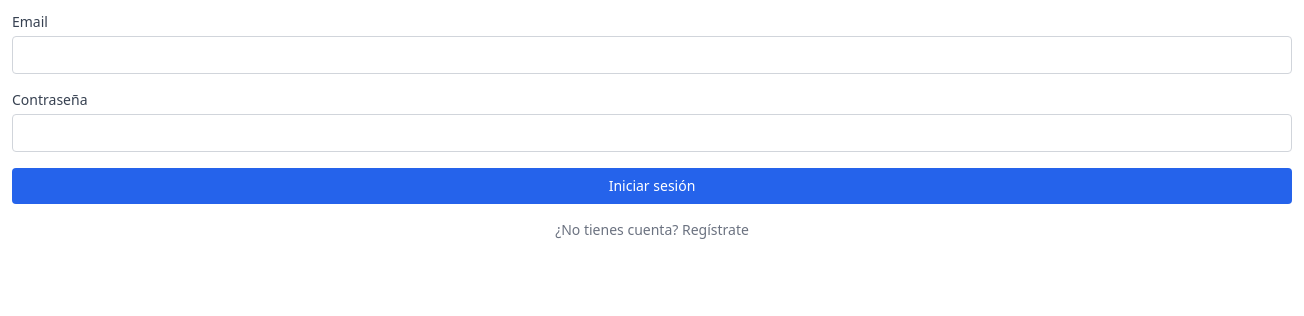
Test: LoginPage › shows error message on INVALID_CREDENTIALS
Type "test@example.com" into the field labelled "Email".
click(652, 55); type("test@example.com")  # box [12,36,1292,74]
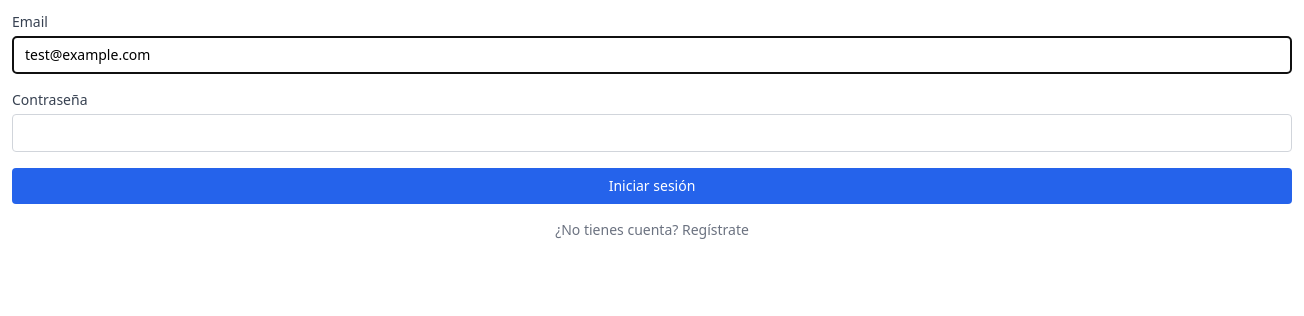
Type "wrongpass" into the password field labelled "Contraseña".
click(652, 133); type("wrongpass")  # box [12,114,1292,152]
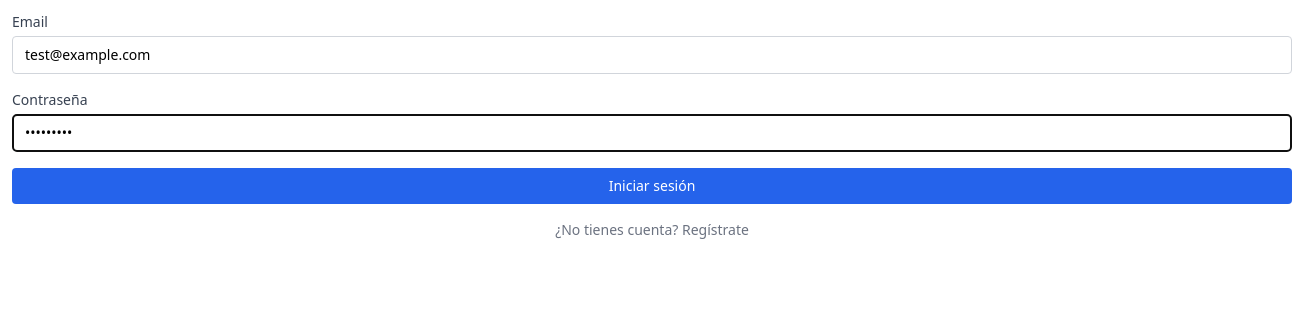
Click the button "Iniciar sesión".
click(652, 186)  # box [12,168,1292,204]
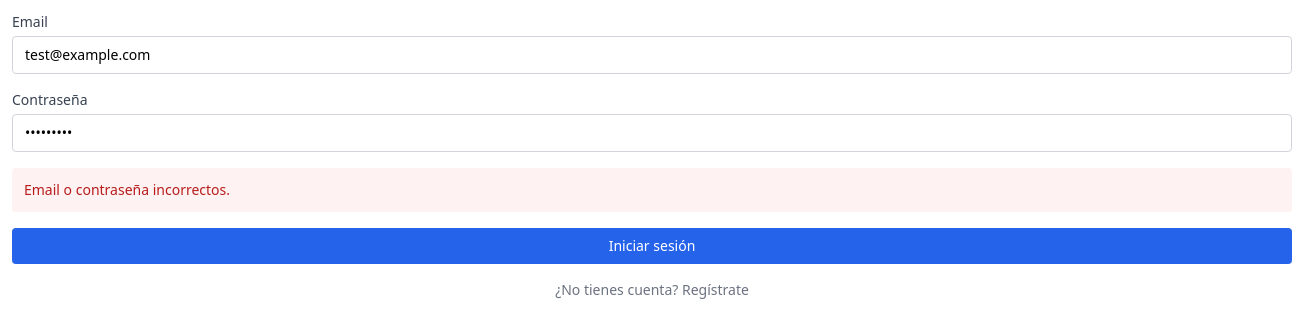
Expected: the text "Email o contraseña incorrectos." is shown, [12,168,1292,212]
